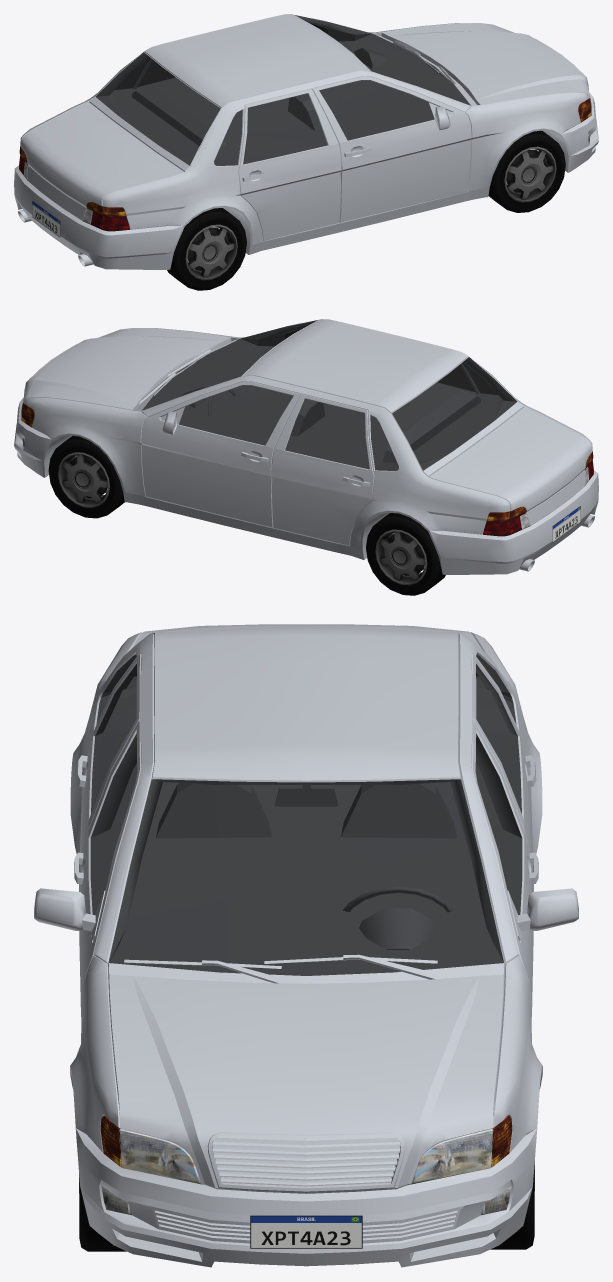
Rendered from carro_sedan.glb.
3 views of the same model, one above another, from view 1: azimuth 30°, elevation 25°; view 2: azimuth 150°, elevation 25°; view 3: azimuth 270°, elevation 25° (orthographic). The views are drawn at different scales.
Parts seen in each view (by area): view 1: Carroceria, Roda_TD, Roda_DD, object 7; view 2: Carroceria, Roda_TE, Roda_DE, object 7; view 3: Carroceria, object 6, Roda_DD, Roda_DE.
Boxes of the visible parts, x1,y1,x2,y2 form: Carroceria: (14, 14, 598, 269); Roda_TD: (167, 208, 246, 290); Roda_DD: (488, 130, 565, 212); object 7: (32, 201, 60, 237); Carroceria: (14, 319, 598, 574); Roda_TE: (366, 513, 445, 595); Roda_DE: (48, 436, 124, 518); object 7: (552, 506, 580, 542); Carroceria: (34, 624, 578, 1267); object 6: (250, 1215, 362, 1248); Roda_DD: (79, 1174, 126, 1251); Roda_DE: (490, 1161, 534, 1249).
Size of the model in its own units: 4.38 by 1.34 by 1.94.
Materials: 5 (3 with a texture image).
